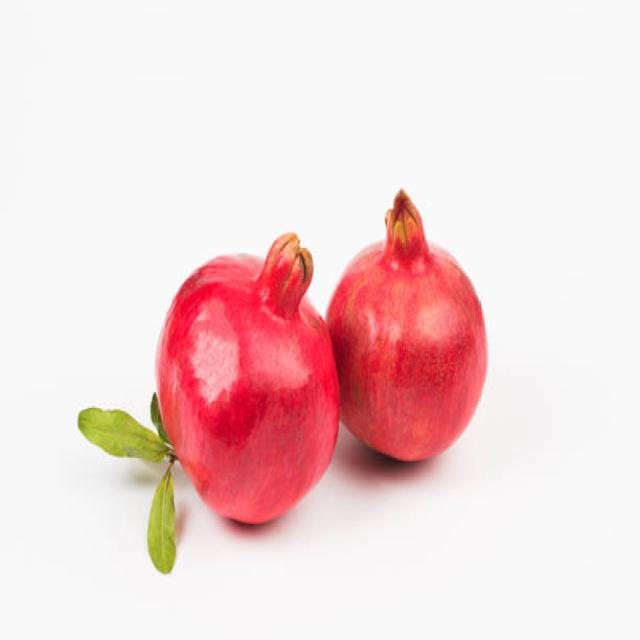Ripe: (150, 222, 344, 526), (332, 185, 491, 465)
